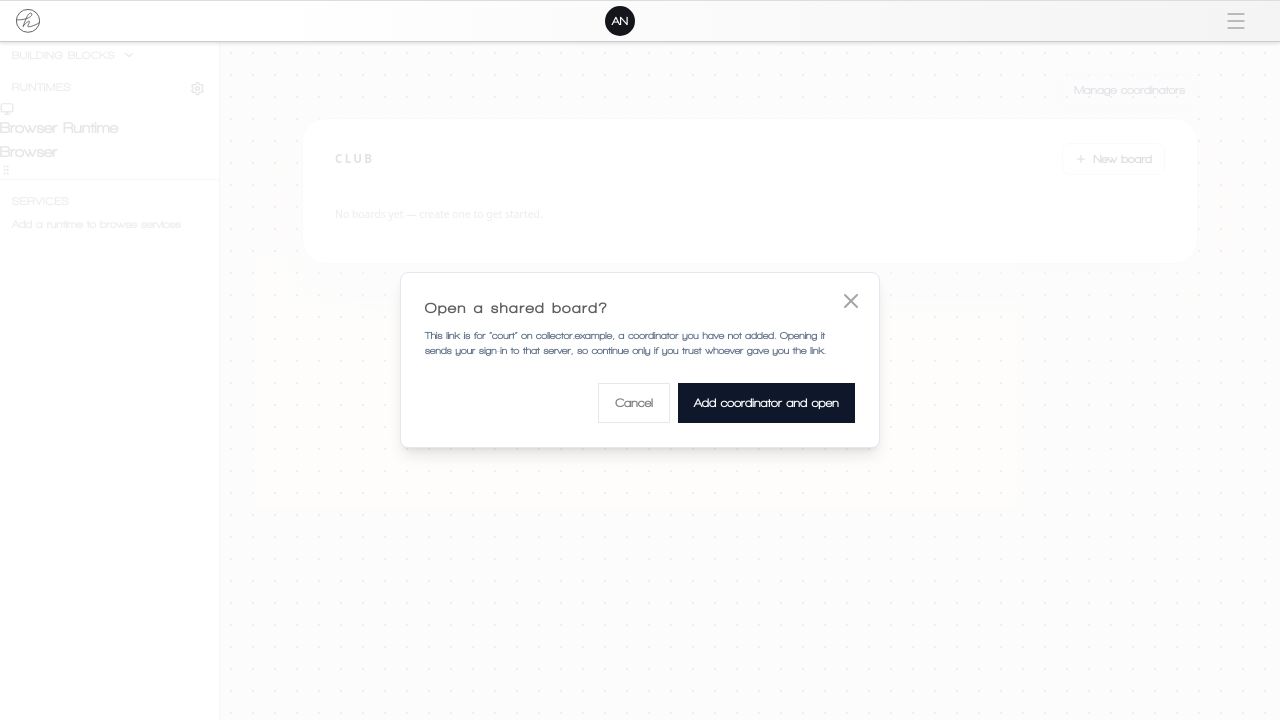
it: a link to a shared board › sends nothing when the person declines
The image size is (1280, 720).
Expected: the heading "Open a shared board?" is shown, [425,300,608,316]
Click the button "Cancel". click: click(634, 403)
box: [598,383,670,423]
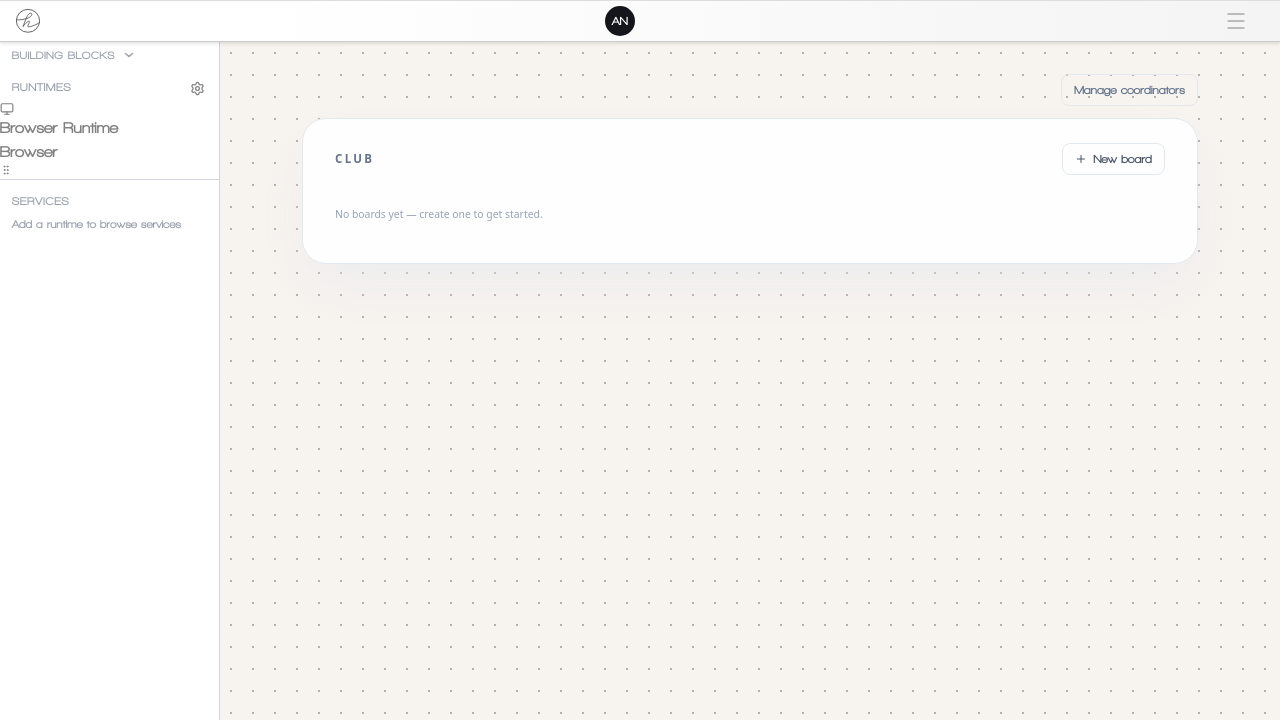
Now the heading "Open a shared board?" is gone
